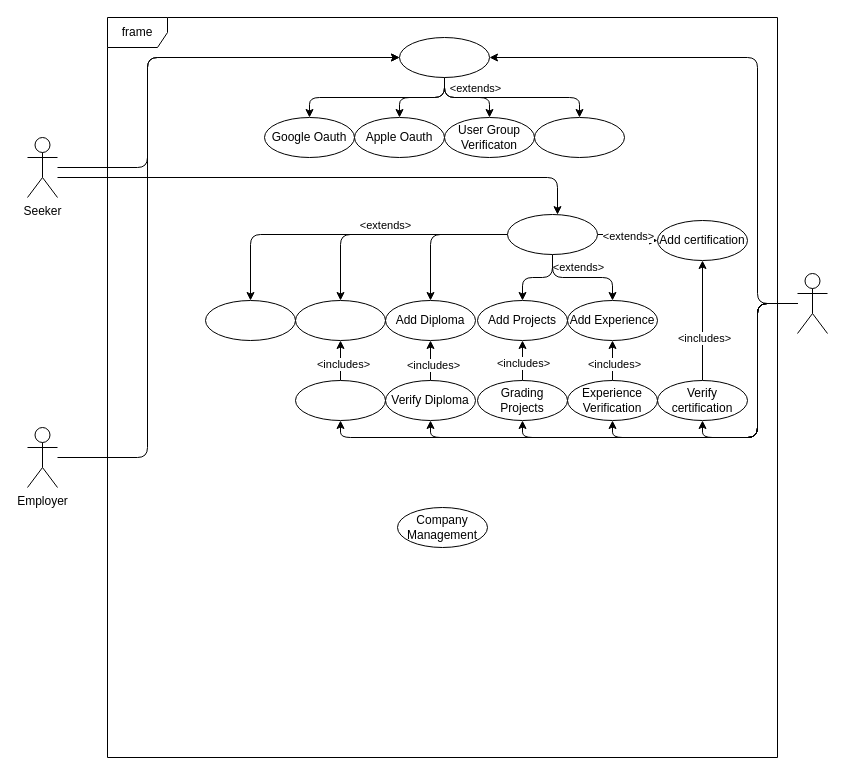
The diagram is 847 pixels wide and 775 high, and some of its shapes have lost their labels. Here are the shapes that lost their labels. From the top down, the centre of each, then its label:
At [444,57]: "Authentication".
At [579,137]: "Middleware".
At [552,234]: "Seeker Management".
At [250,320]: "Change Username".
At [340,320]: "Add NIC".
At [812,303]: "Admin".
At [340,400]: "Verify NIC".
